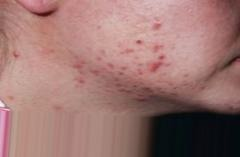Acne: (14, 20, 195, 95)
